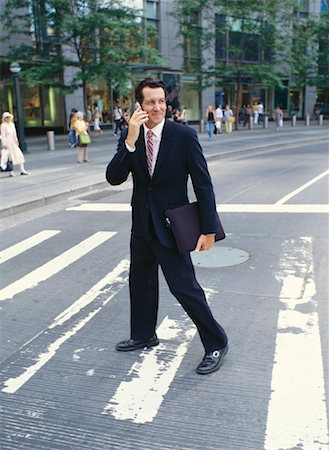person: (100, 75, 242, 376), (1, 109, 34, 177), (67, 106, 95, 168), (199, 104, 219, 137), (242, 101, 257, 131), (221, 105, 237, 133), (110, 104, 124, 130), (270, 108, 284, 129)
